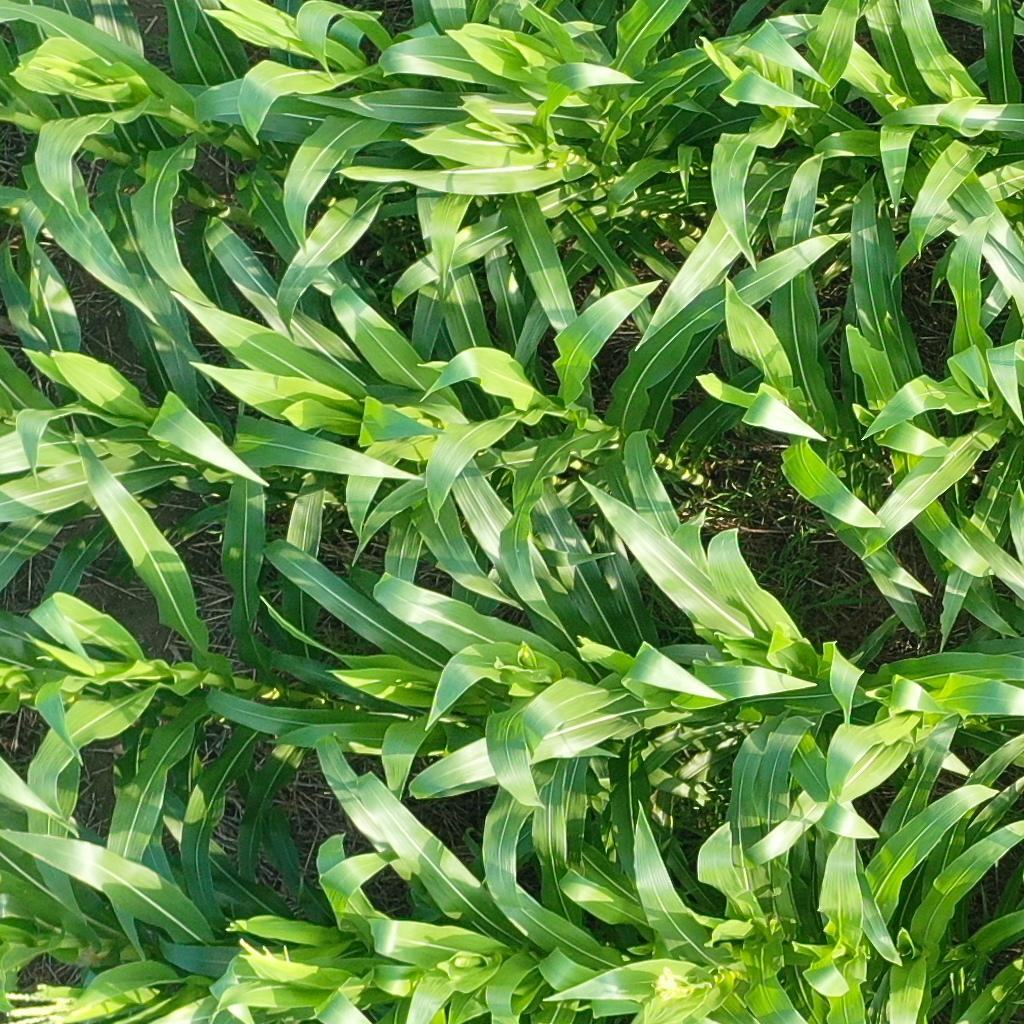Tassel: (2, 981, 80, 1024), (234, 936, 295, 977), (647, 963, 692, 1006)
